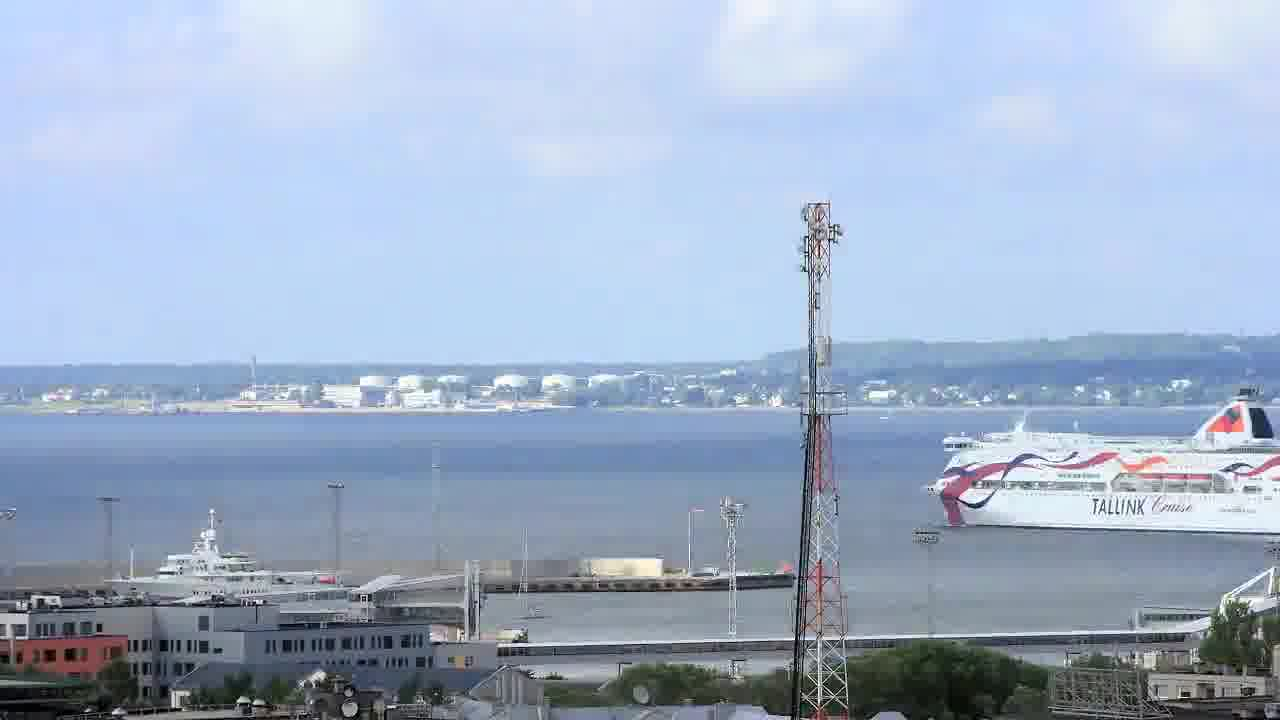type-0: (498, 541, 560, 629)
type-3: (903, 410, 1280, 555), (96, 508, 381, 605)
